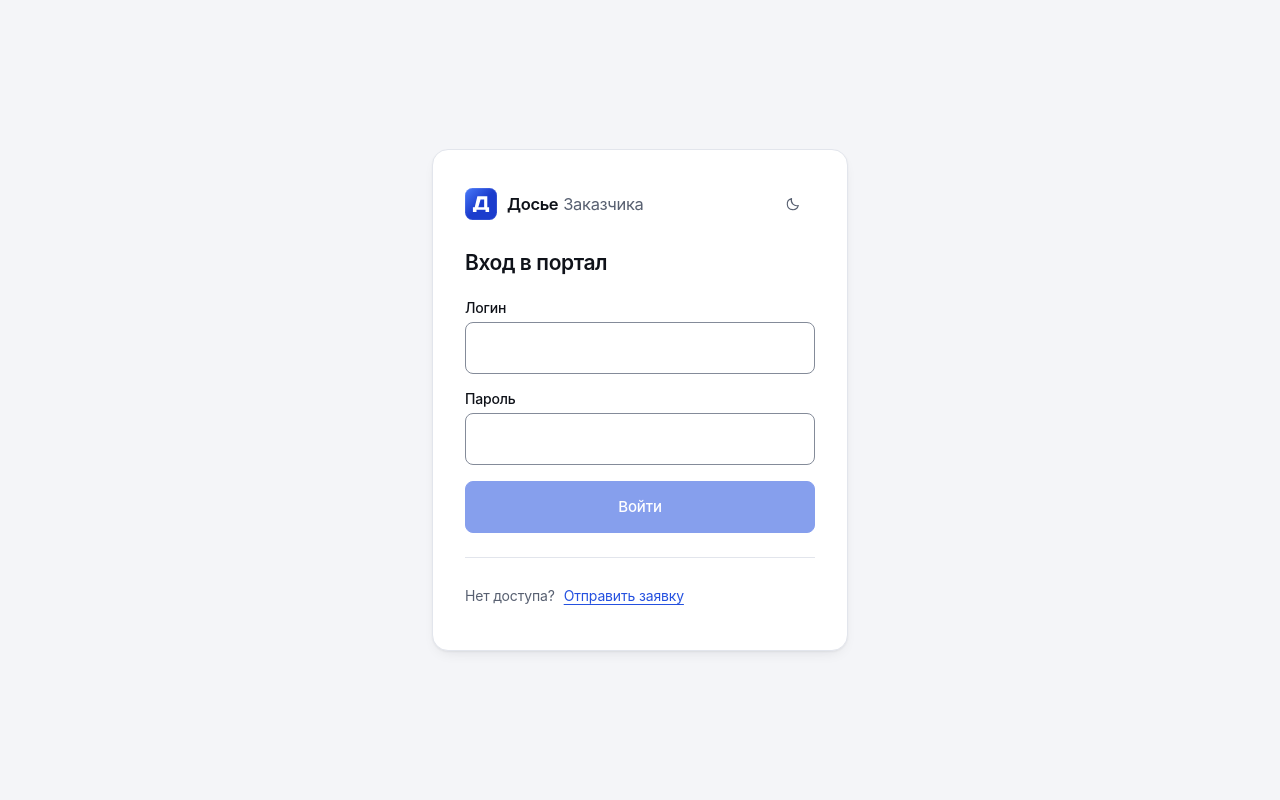
Test: вход › вход открывает портал; выход отправляет CSRF-токен и возвращает экран входа
The image size is (1280, 800).
Type " ivanov " into the field labelled "Логин" at [640, 348], box [465,322,815,374]
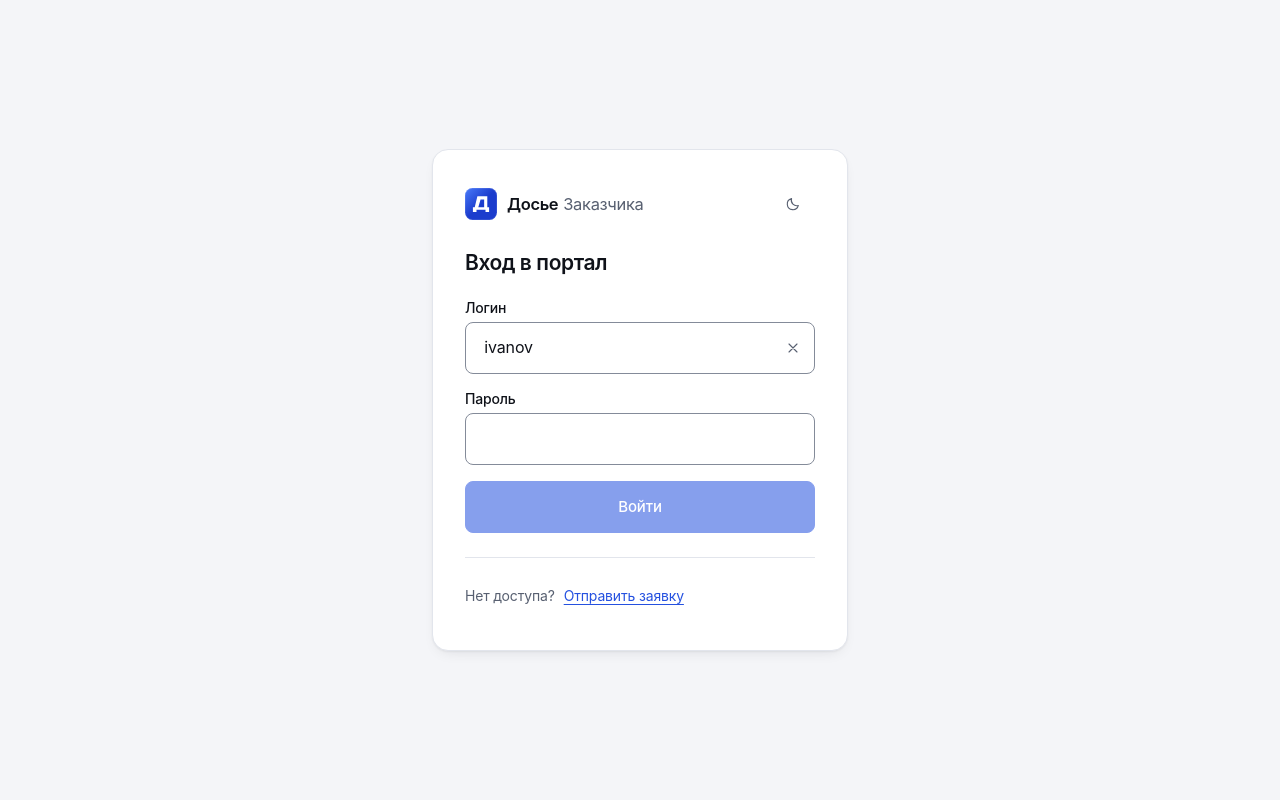
Type "Correct-Horse-7731" into the password field labelled "Пароль" at [640, 439], box [465,413,815,465]
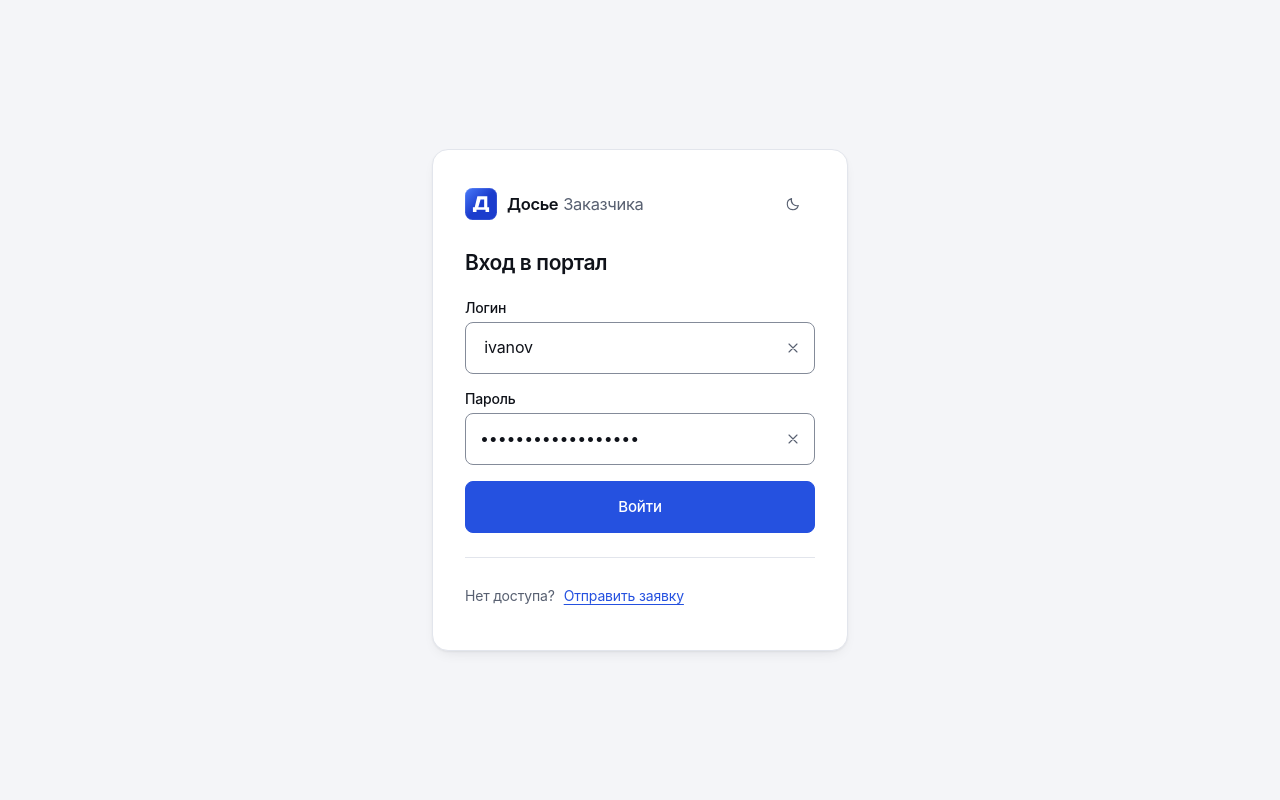
Click the button "Войти" at [640, 507], box [465,481,815,533]
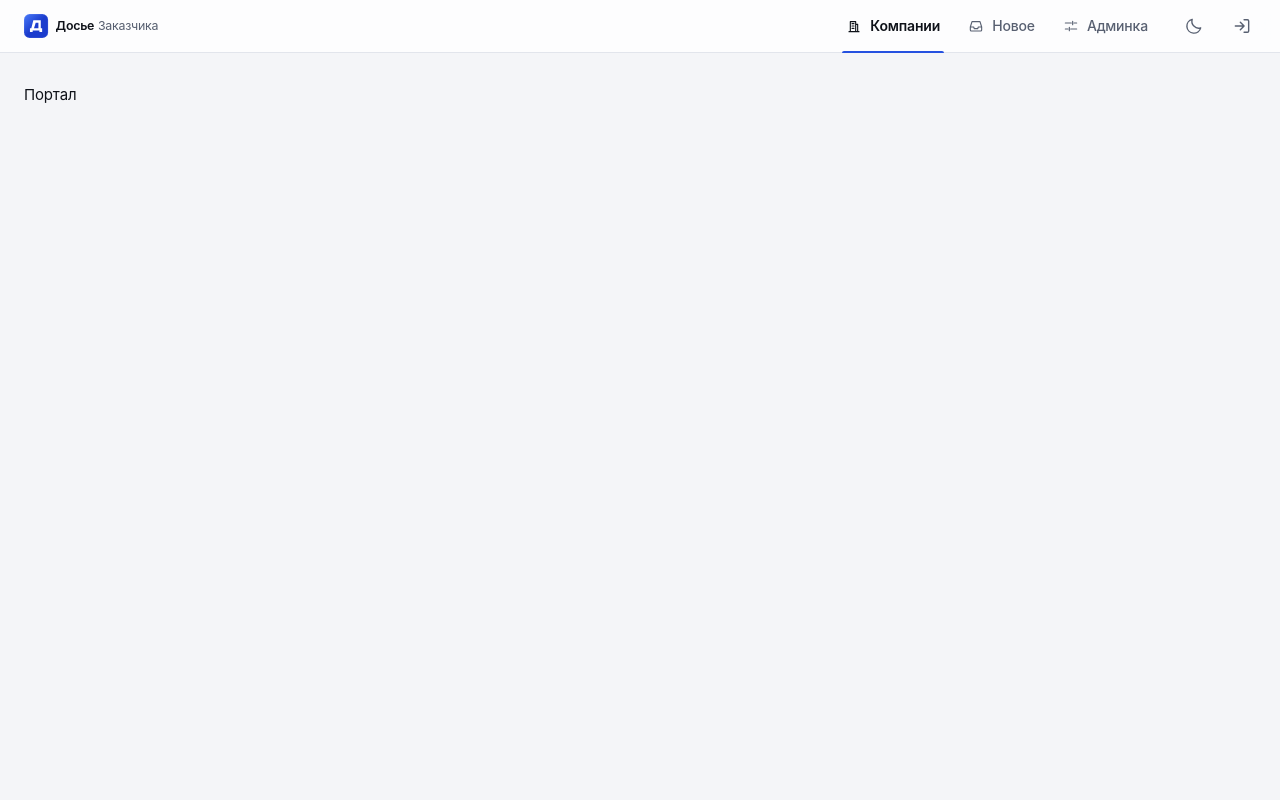
Click the button named "Выйти (Иван Иванов)" at [1242, 26], box [1220,4,1264,48]
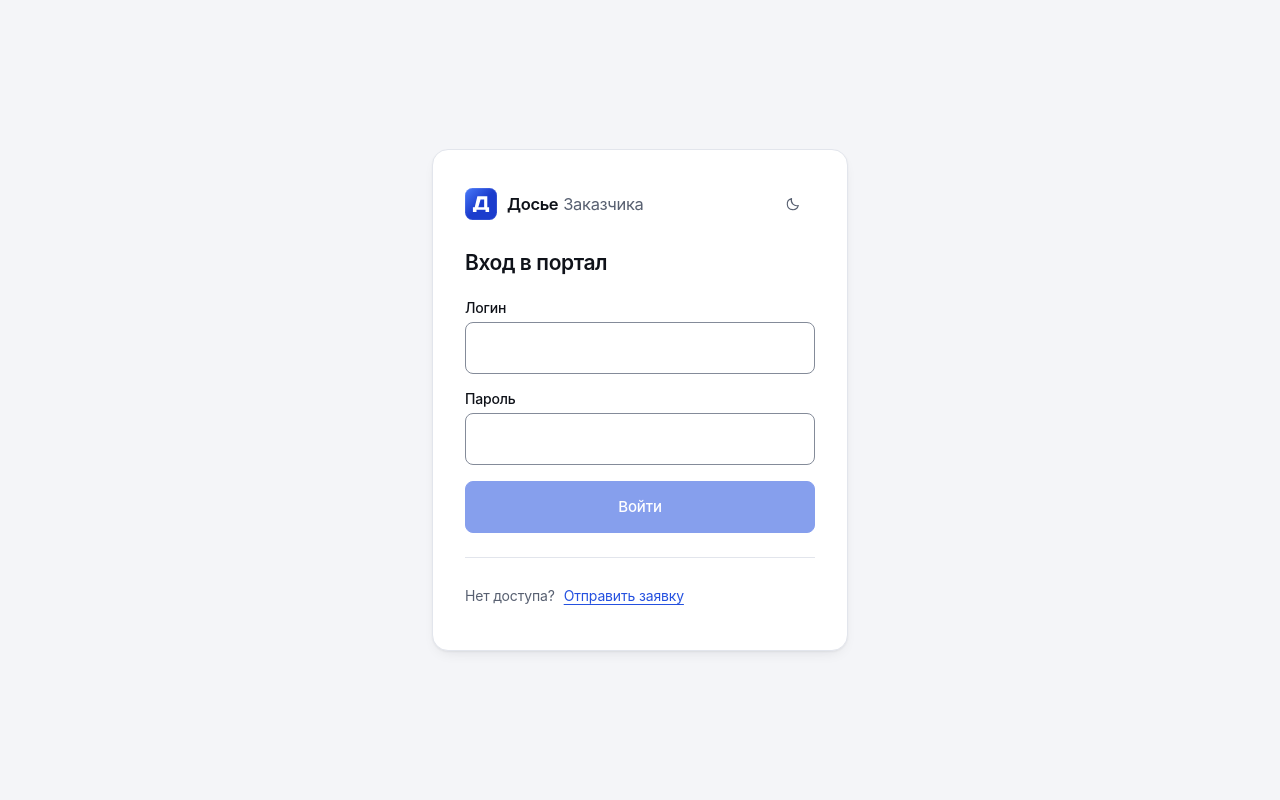
Result: the field labelled "Логин" is shown at [465,322,815,374]
